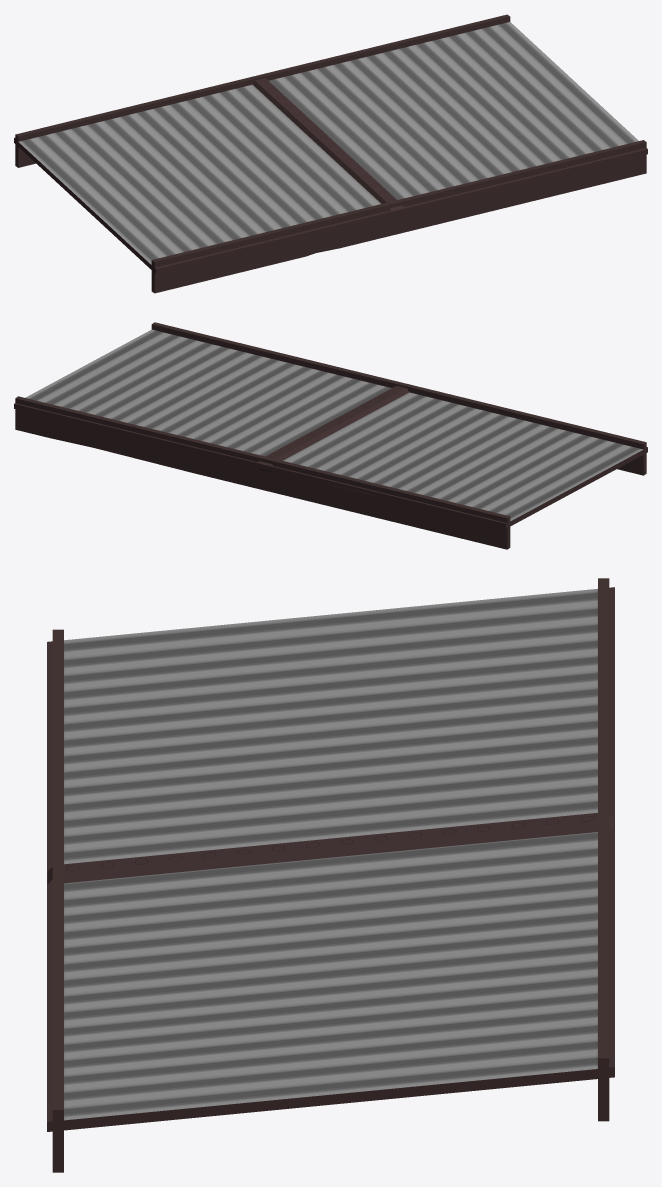
File: SW_ENV_EL_Station_Roof_A_01.fbx
3 views of the same model, one above another, from view 1: azimuth 30°, elevation 25°; view 2: azimuth 150°, elevation 25°; view 3: azimuth 270°, elevation 25° (orthographic). The views are drawn at different scales.
Visible parts, largest first — view 1: SW_ENV_EL_Station_Roof_A_01; view 2: SW_ENV_EL_Station_Roof_A_01; view 3: SW_ENV_EL_Station_Roof_A_01.
Boxes of the visible parts, x1,y1,x2,y2 form: SW_ENV_EL_Station_Roof_A_01: [14, 14, 647, 293]; SW_ENV_EL_Station_Roof_A_01: [14, 322, 647, 549]; SW_ENV_EL_Station_Roof_A_01: [47, 578, 614, 1172].
Bounding box in the file's own units: 1000 × 111 × 500.
